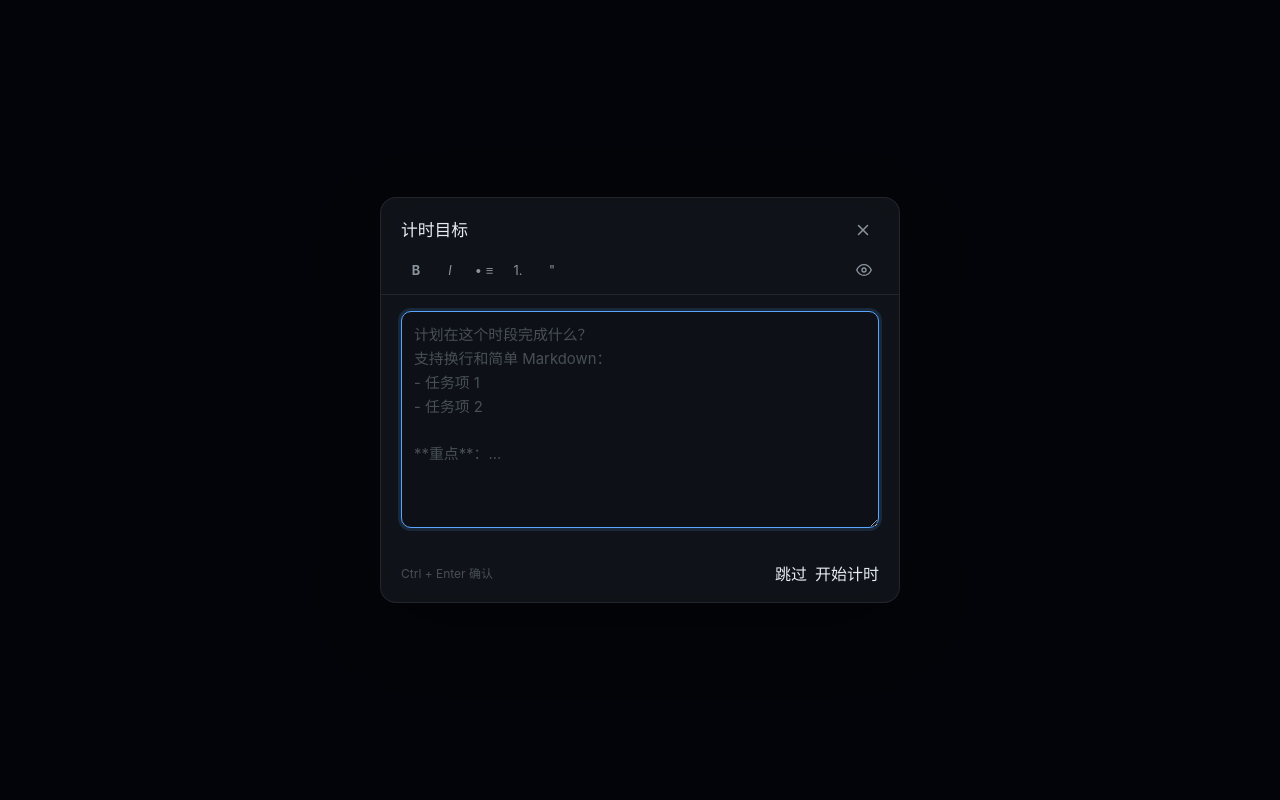
Test: SessionNoteModal 格式插入 › insertFormat 包裹选中文本（加粗）
This screenshot has width=1280, height=800.
Type "选中" into the text box with placeholder "计划在这个时段完成什么？ 支持换行和简单 Markdown： - 任务项 1 - 任务项 2 **重点**：..." at [640, 420], box 401,311 -> 879,528
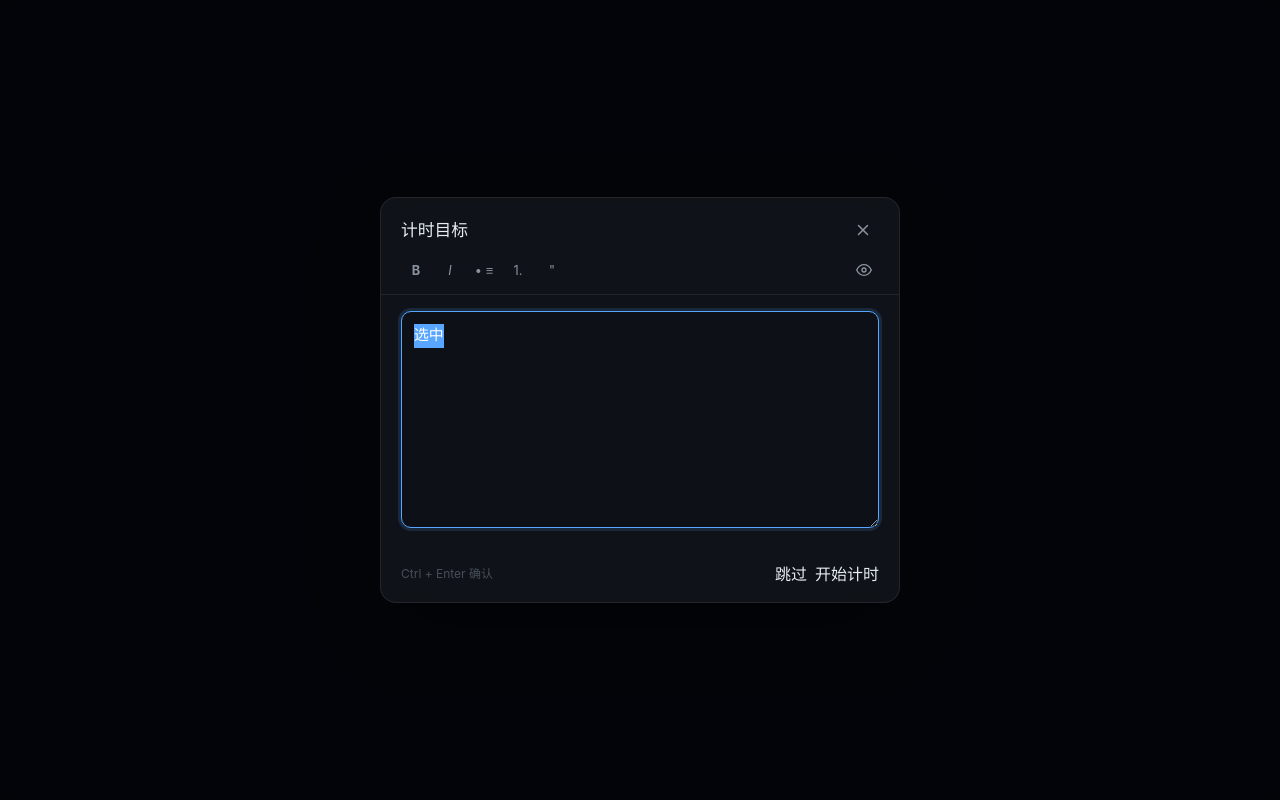
Click the button with class "sn-toolbar-btn" showing "B" at [416, 270], box 401,256 -> 431,284
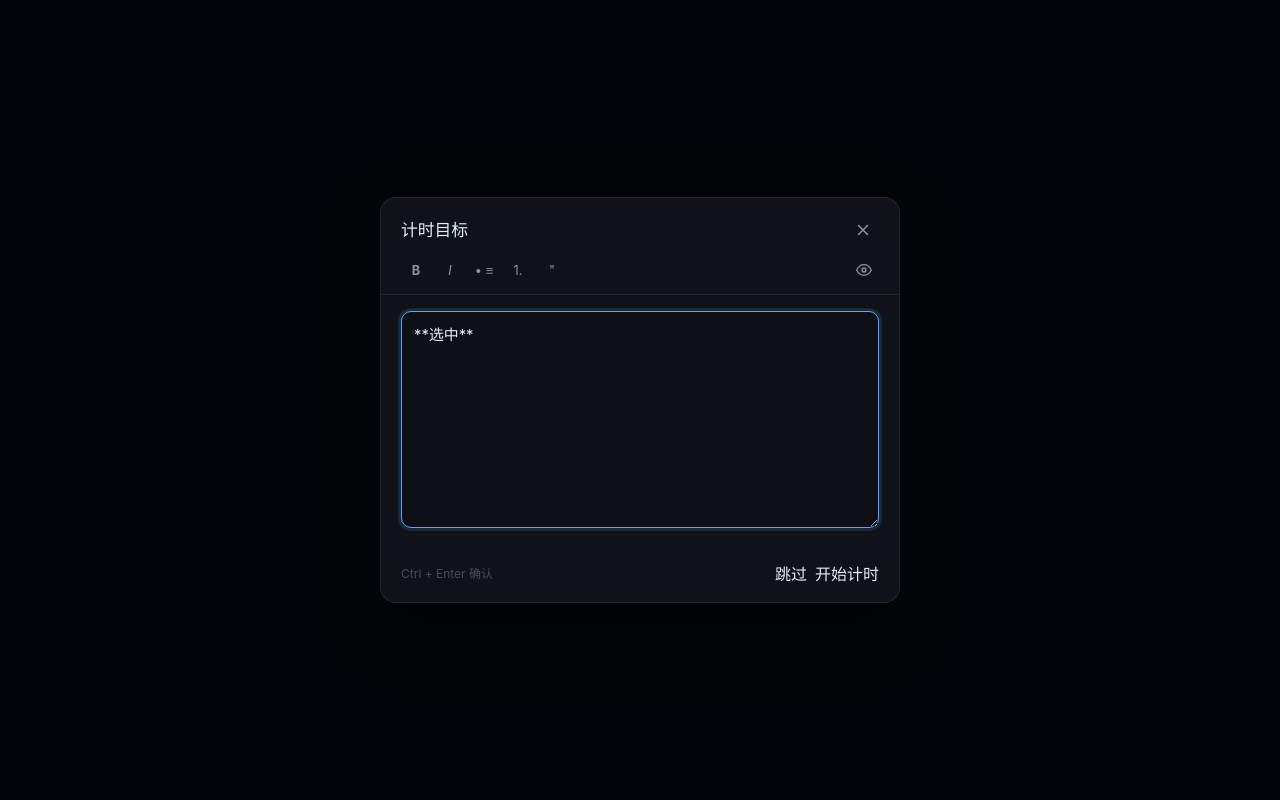
Now the text box named "计时目标" holds "**选中**", box 401,311 -> 879,528
